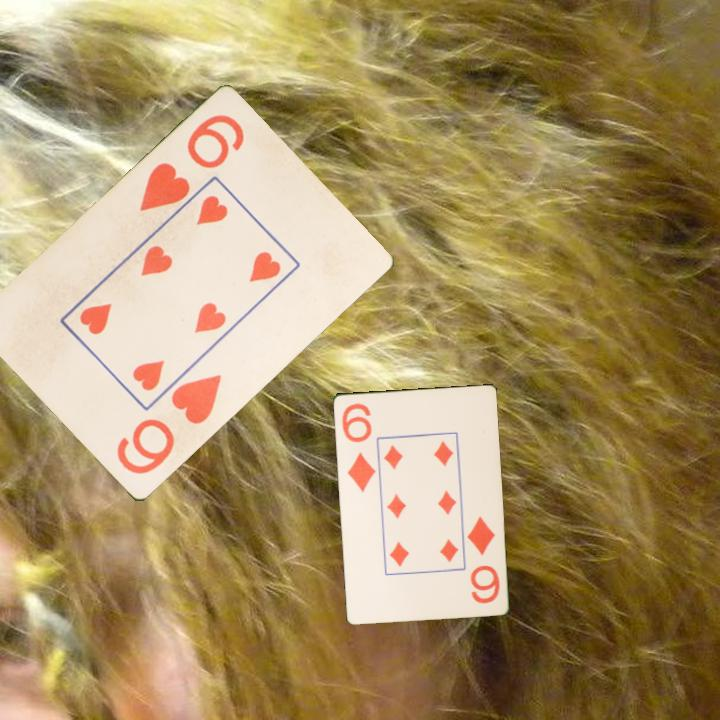6d: (338, 400, 378, 495), (463, 513, 502, 606)
6h: (113, 371, 225, 478), (135, 111, 248, 215)
